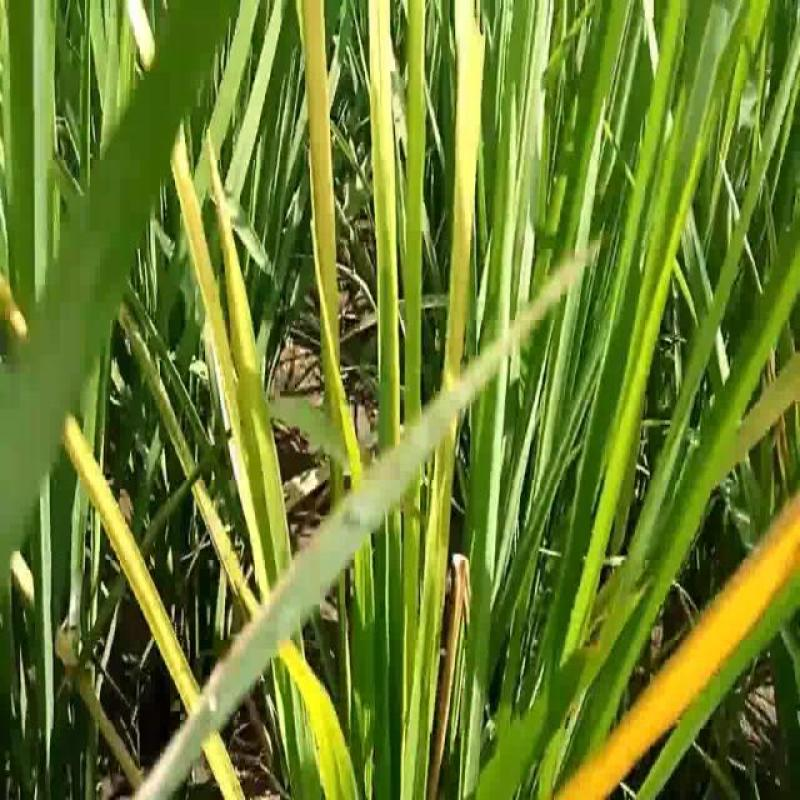Rice Tungro: (1, 269, 234, 799), (121, 2, 274, 494), (560, 489, 799, 800), (364, 4, 408, 438), (440, 18, 488, 398), (298, 6, 348, 348)
